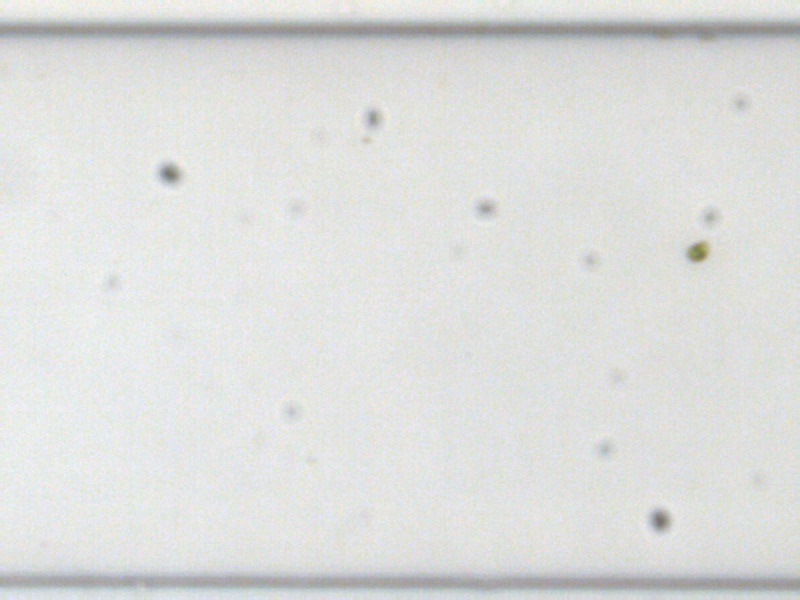Dunaliella salina: (685, 238, 710, 263)
